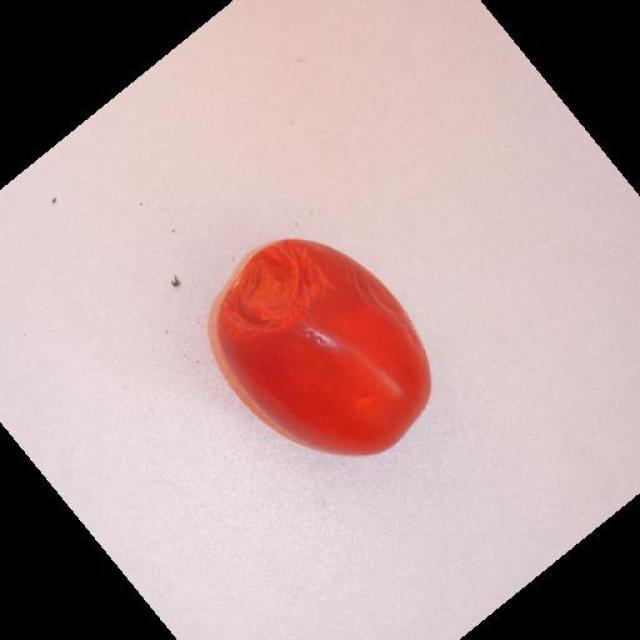Stale_tomato: (203, 240, 376, 384)
